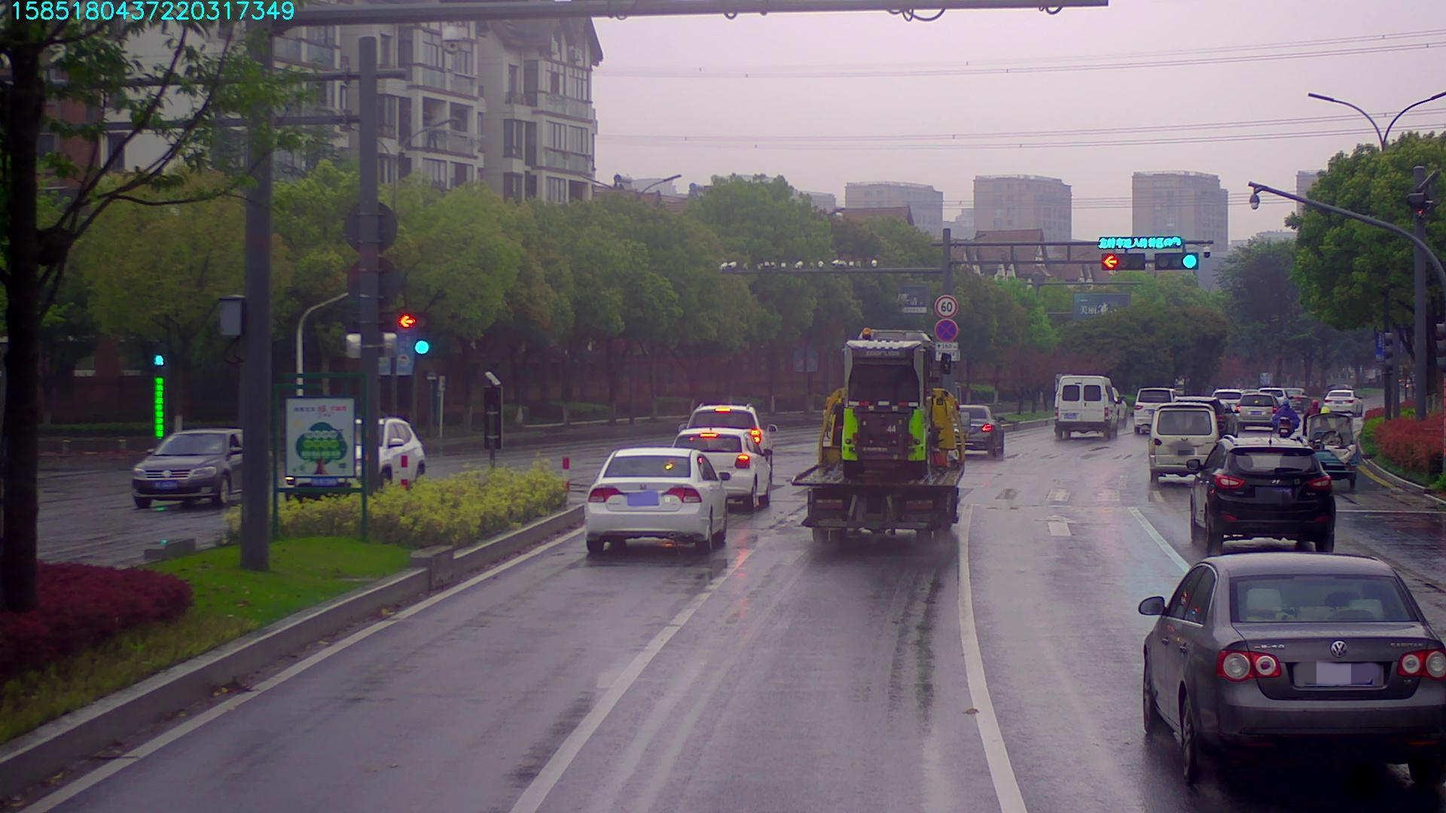green: (1152, 248, 1198, 271)
red: (1098, 255, 1143, 266)
wait_on: (1099, 235, 1185, 248)
